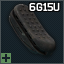AK GP-25 accessory kit recoil pad: (0, 0, 64, 64)
